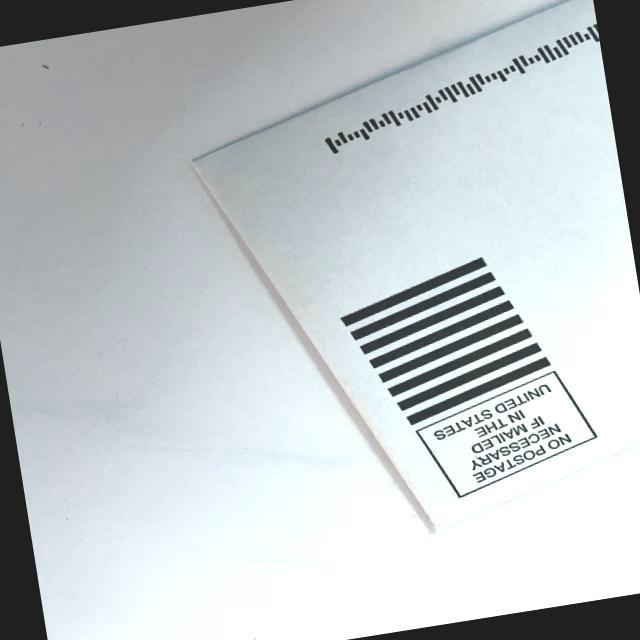paper: (172, 0, 640, 564)
